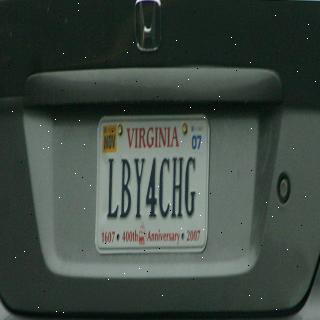license: (97, 110, 213, 256)
